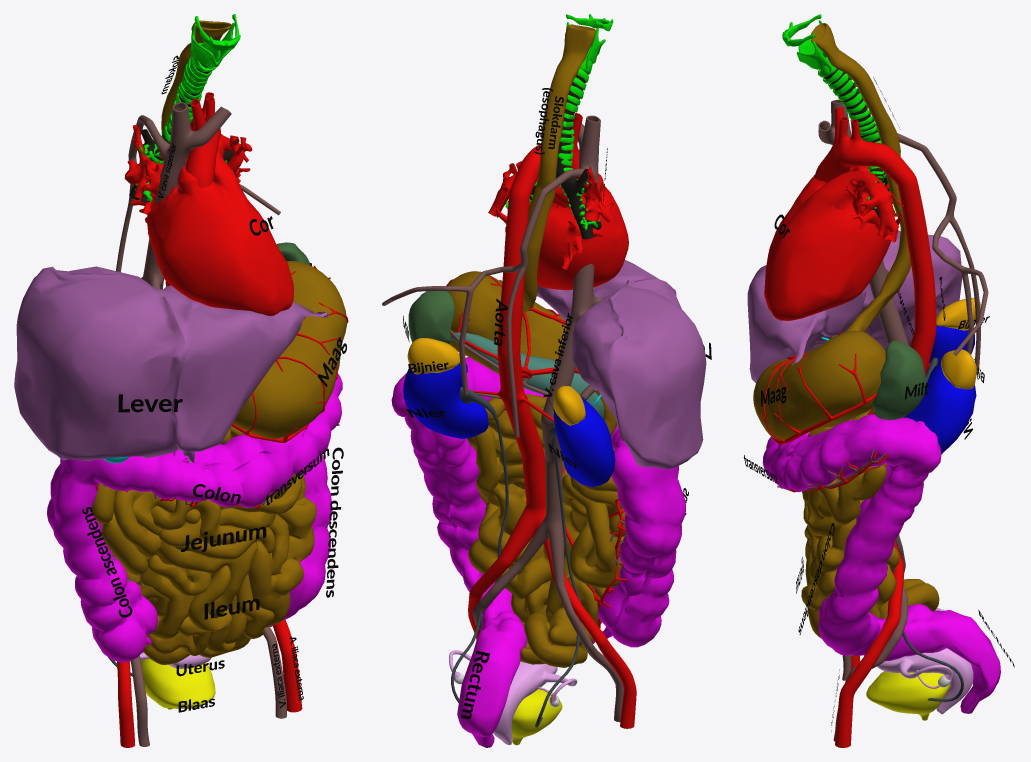
File: AbdomenOne.fbx
3 renders of one model, left to right at view 1: azimuth 30°, elevation 25°; view 2: azimuth 150°, elevation 25°; view 3: azimuth 270°, elevation 25°, orthographic. The views are drawn at different scales.
Visible parts, largest first — view 1: Lever, Intestine_Small_Dunne_darms, Intestine_Large_Dikke_darms, Heart, Vein_1, Labels, Artery_1, Bladder_Blaas, Cartilage_throat, Cartilage_trachea, Artery_2, Trachea; view 2: Intestine_Small_Dunne_darms, Intestine_Large_Dikke_darms, Lever, Artery_1, Vein_1, Heart, Kidney_L, Kidney_R, Labels, Uterus1, Spleen_Milt, Pancreas (+11 smaller); view 3: Intestine_Large_Dikke_darms, Intestine_Small_Dunne_darms, Heart, Artery_1, Lever, Vein_1, Kidney_L, Spleen_Milt, Bladder_Blaas, Uterus1, Labels, Cartilage_trachea (+8 smaller).
Part boxes in pixels (bbox=[...]): Lever: bbox=[14, 266, 328, 463]; Intestine_Small_Dunne_darms: bbox=[91, 20, 346, 664]; Intestine_Large_Dikke_darms: bbox=[47, 373, 342, 662]; Heart: bbox=[125, 124, 293, 316]; Vein_1: bbox=[116, 102, 286, 746]; Labels: bbox=[82, 55, 346, 712]; Artery_1: bbox=[117, 92, 302, 747]; Bladder_Blaas: bbox=[141, 658, 215, 709]; Cartilage_throat: bbox=[190, 14, 240, 71]; Cartilage_trachea: bbox=[124, 56, 227, 202]; Artery_2: bbox=[231, 265, 348, 443]; Trachea: bbox=[129, 62, 232, 202]; Intestine_Small_Dunne_darms: bbox=[447, 24, 626, 667]; Intestine_Large_Dikke_darms: bbox=[391, 357, 685, 747]; Lever: bbox=[499, 260, 706, 469]; Artery_1: bbox=[468, 113, 636, 728]; Vein_1: bbox=[382, 115, 623, 722]; Heart: bbox=[488, 161, 628, 289]; Kidney_L: bbox=[403, 363, 488, 438]; Kidney_R: bbox=[553, 397, 615, 486]; Labels: bbox=[403, 88, 711, 718]; Uterus1: bbox=[449, 650, 577, 744]; Spleen_Milt: bbox=[408, 291, 454, 344]; Pancreas: bbox=[451, 332, 604, 418]; Intestine_Large_Dikke_darms: bbox=[762, 414, 1000, 713]; Intestine_Small_Dunne_darms: bbox=[753, 23, 939, 656]; Heart: bbox=[764, 166, 904, 320]; Artery_1: bbox=[814, 106, 936, 747]; Lever: bbox=[747, 230, 962, 382]; Vein_1: bbox=[818, 99, 988, 741]; Kidney_L: bbox=[903, 363, 976, 454]; Spleen_Milt: bbox=[872, 340, 926, 420]; Bladder_Blaas: bbox=[866, 671, 949, 720]; Uterus1: bbox=[877, 608, 973, 714]; Labels: bbox=[743, 77, 1014, 731]; Cartilage_trachea: bbox=[823, 69, 895, 212].
Bounding box in the file's own units: 293 × 700 × 253.
